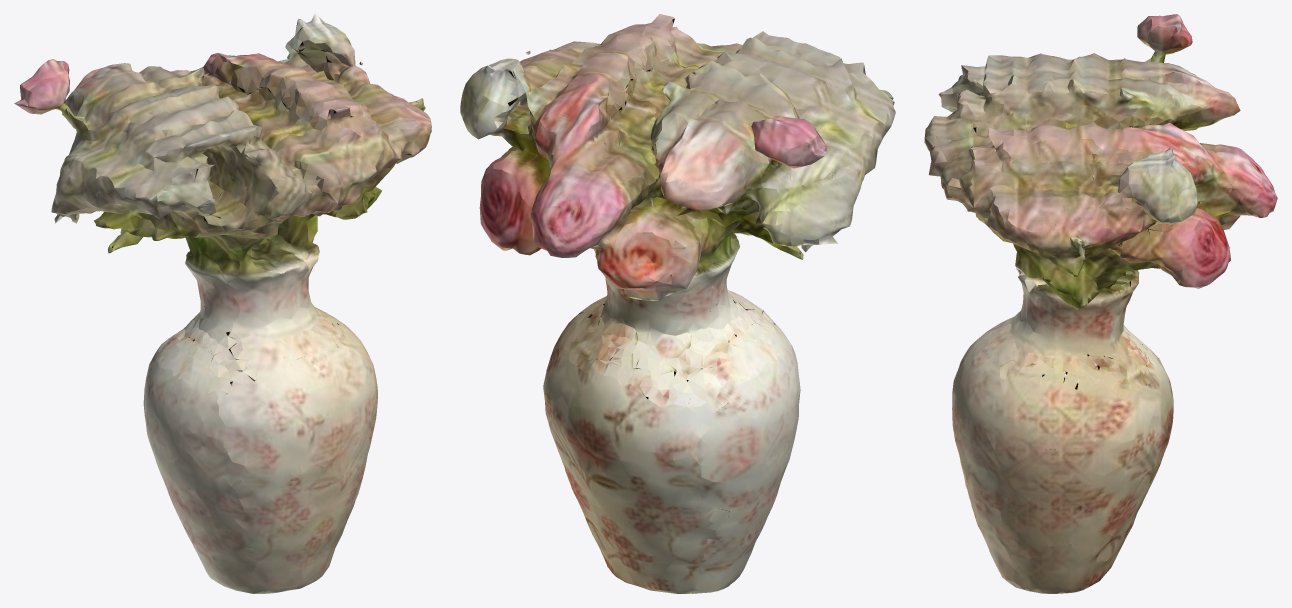
File: 1743875555682_generated_model.glb
3 views of the same model, side by side, from view 1: azimuth 30°, elevation 25°; view 2: azimuth 150°, elevation 25°; view 3: azimuth 270°, elevation 25° (orthographic). The views are drawn at different scales.
Parts seen in each view (by area): view 1: world; view 2: world; view 3: world.
Part boxes in pixels (x1,y1,x2,y2): world: (14,14,431,593); world: (460,14,895,593); world: (924,14,1277,593).
Bounding box in the file's own units: 0.6705 × 0.8792 × 0.5773.
1 material, 1 textured.
